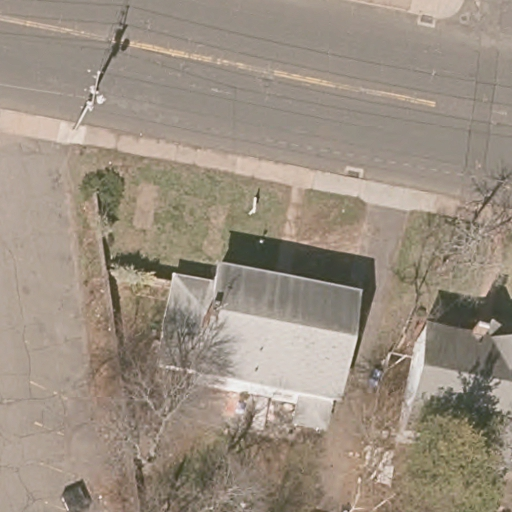DT: (69, 67, 106, 132)
